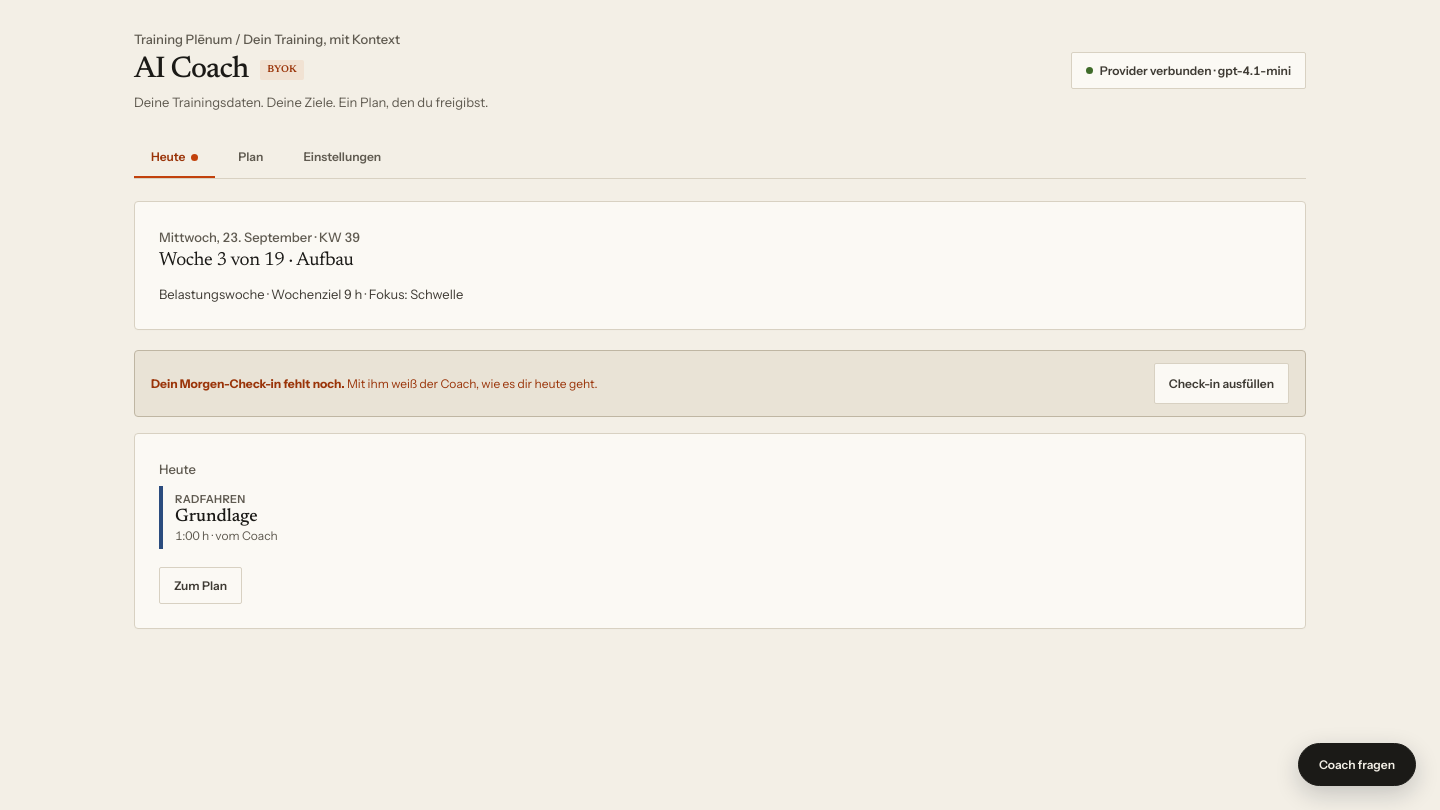
the connection badge opens the provider settings with costs and the usage of this month
Click the button "Provider verbunden · gpt-4.1-mini" at (1188, 70), box [1071,52,1306,89]
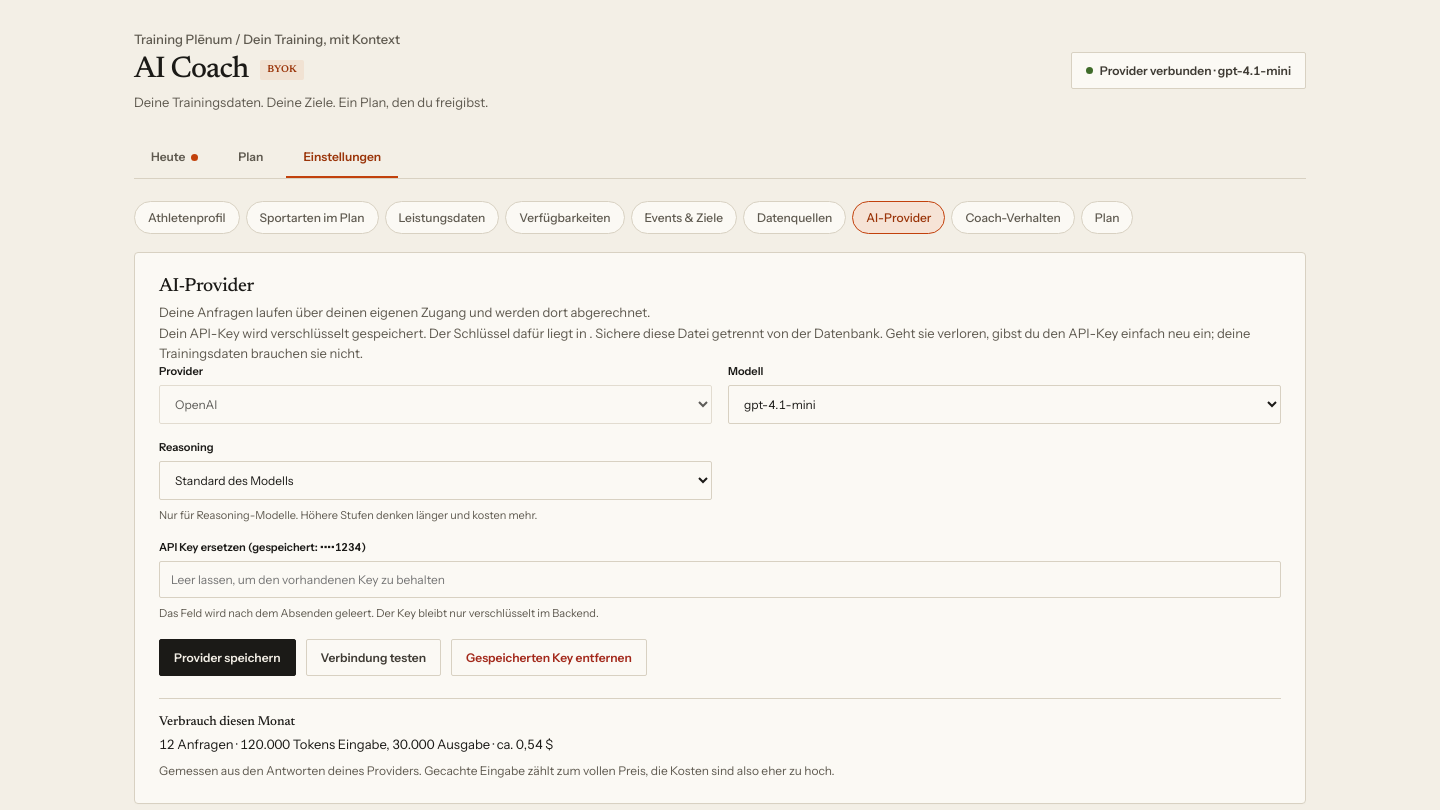
expect the button "Einstellungen" is shown: met, box [286,137,398,178]
expect the element named "AI-Provider" is shown: met, box [134,252,1306,804]
Select "gpt-6.1-sol" in the dropdown labelled "Modell" at (1004, 405), box [728,385,1281,424]
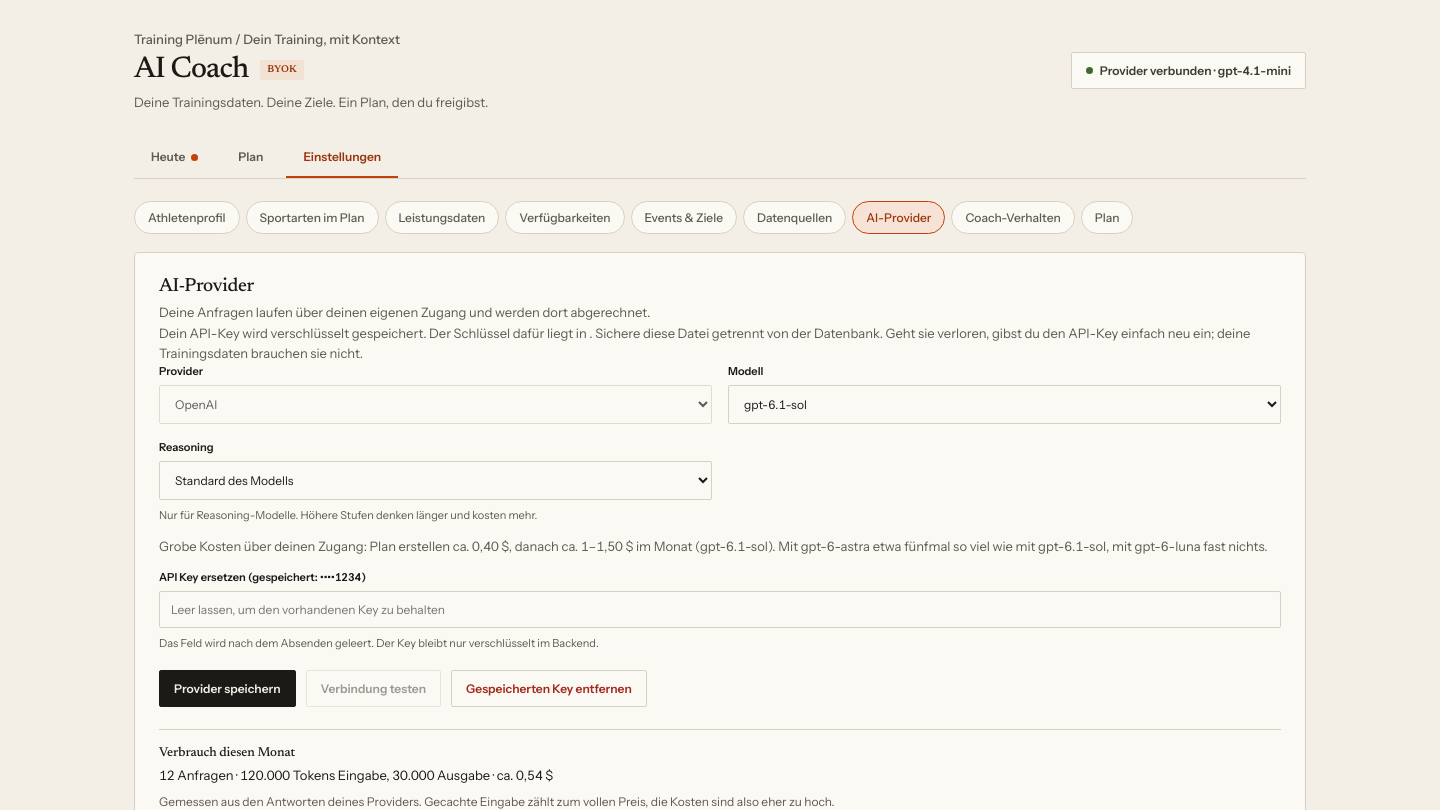
expect the element named "Verbrauch diesen Monat" shows "12 Anfragen · 120.000 Tokens Eingabe, 30.000 Ausgabe · ca. 0,54 $": met, box [159,729,1281,809]
expect the text with class "coach-cost" shows "Plan erstellen ca. 0,40 $": met, box [159,538,776,554]
Submit the form, box [159,364,1281,707]
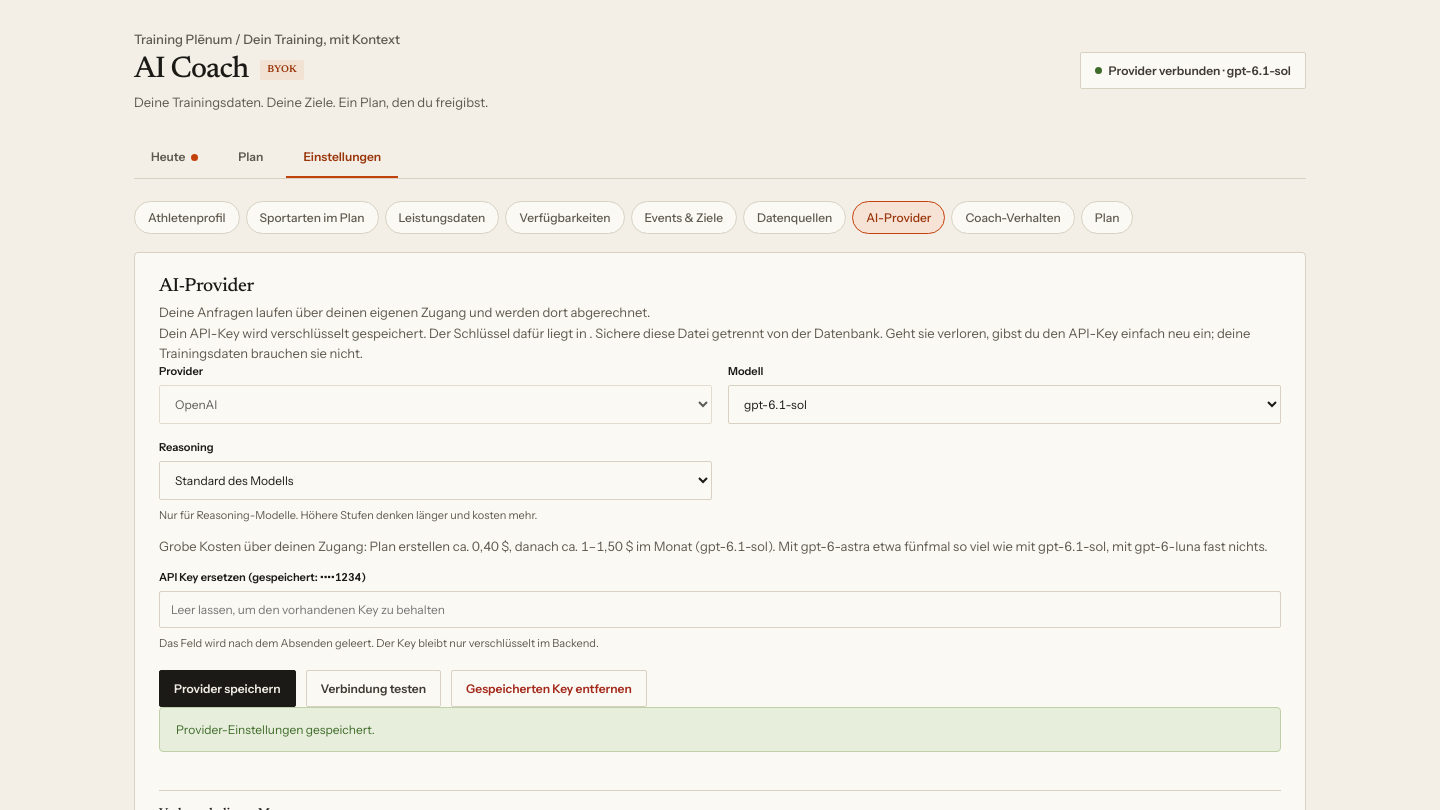
expect the button "Provider verbunden · gpt-6.1-sol" is shown: met, box [1080,52,1306,89]
expect the message "Provider-Einstellungen gespeichert." is shown: met, box [159,707,1281,752]
